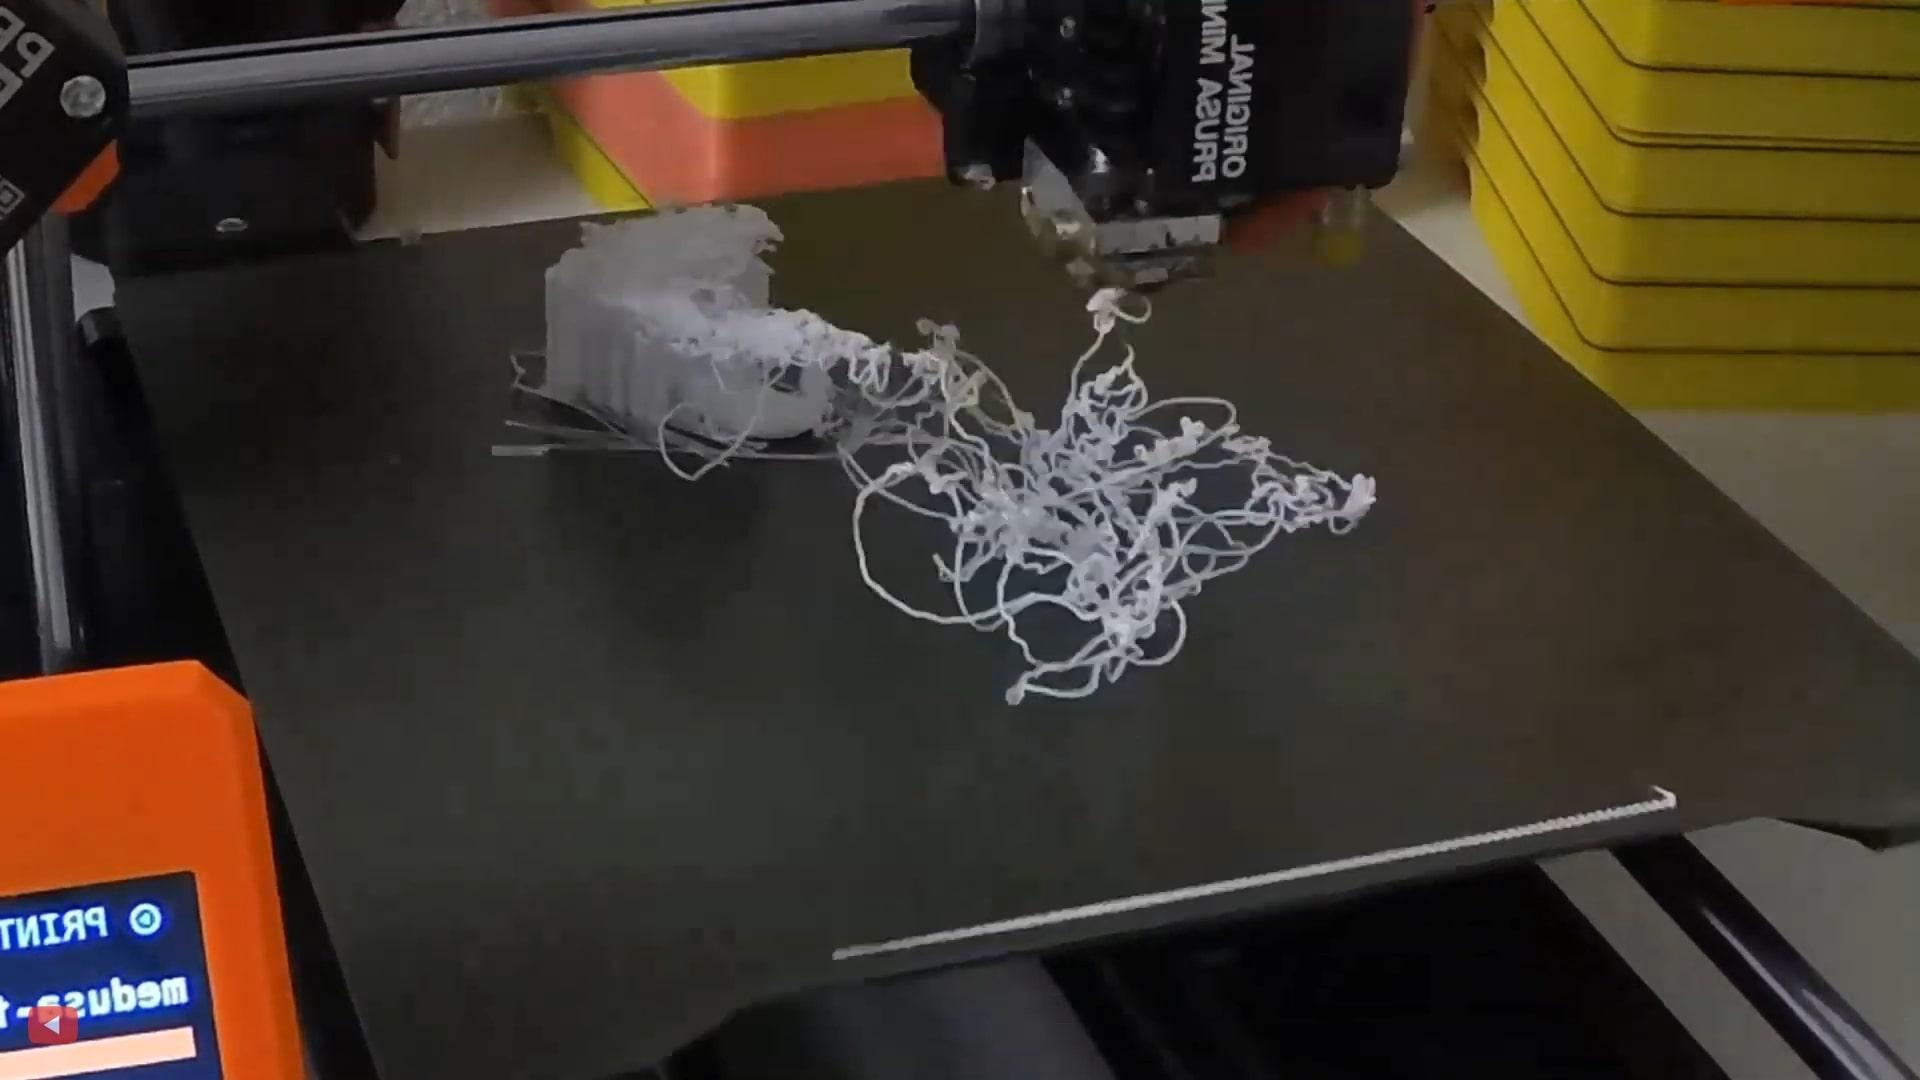Printing-Artifact: (862, 289, 1356, 703)
